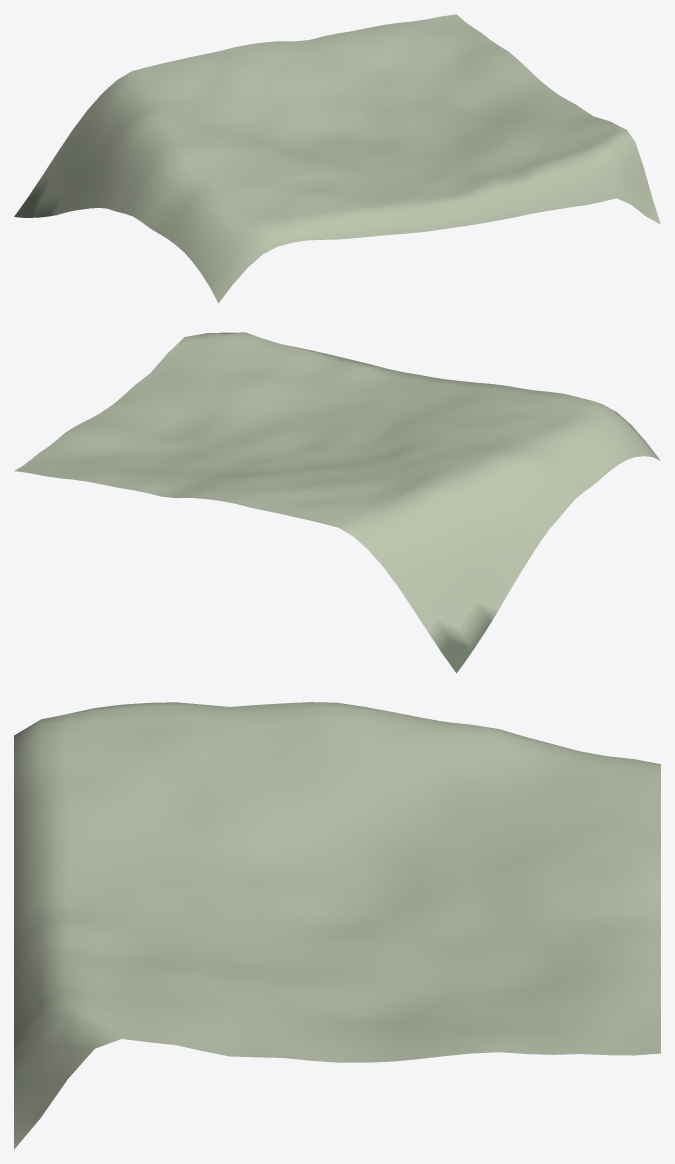
The picture shows the model from 3 angles, top to bottom: view 1: azimuth 30°, elevation 25°; view 2: azimuth 150°, elevation 25°; view 3: azimuth 270°, elevation 25°; orthographic projection. The views are drawn at different scales.
Parts seen in each view (by area): view 1: world-ground/30-120; view 2: world-ground/30-120; view 3: world-ground/30-120.
Part boxes in pixels (x1,y1,x2,y2): world-ground/30-120: (14, 14, 660, 303); world-ground/30-120: (14, 332, 660, 673); world-ground/30-120: (14, 702, 660, 1149).
Size of the model in its own units: 37.5 by 10.21 by 30.
